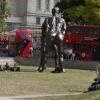Statue: (31, 3, 77, 74)
